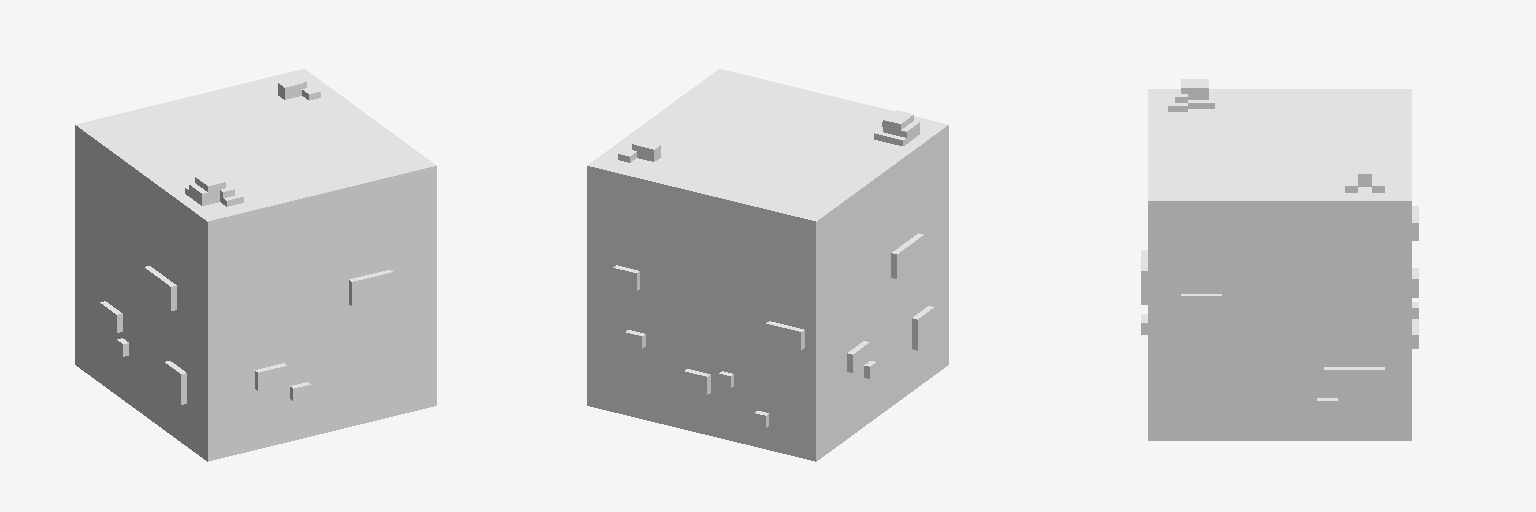
The model's file is grass_block_3.obj.
3 renders of one model, left to right at view 1: azimuth 30°, elevation 25°; view 2: azimuth 150°, elevation 25°; view 3: azimuth 270°, elevation 25°, orthographic.
Parts seen in each view (by area): view 1: object 1; view 2: object 1; view 3: object 1.
Boxes of the visible parts, x1,y1,x2,y2 form: object 1: [75, 69, 436, 461]; object 1: [587, 69, 948, 461]; object 1: [1141, 79, 1418, 440].
Bounding box in the file's own units: 4.1 × 4.2 × 4.1.